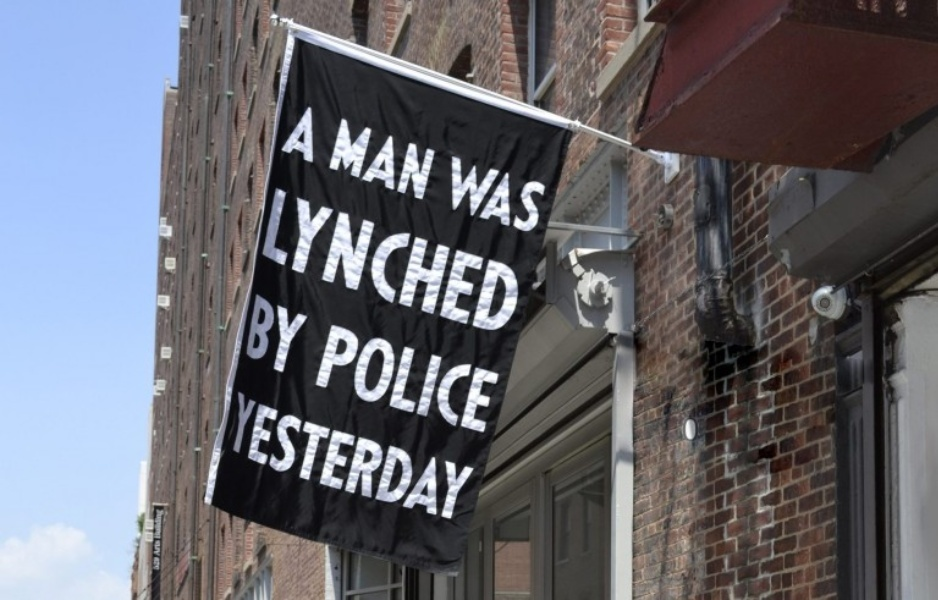text: (289, 187, 304, 340), (305, 187, 320, 340), (321, 187, 336, 340), (337, 187, 352, 340), (353, 187, 368, 340), (369, 187, 384, 340), (385, 187, 400, 340), (401, 187, 416, 340), (417, 187, 432, 340), (433, 187, 448, 340), (449, 187, 464, 340), (465, 187, 480, 340), (481, 187, 496, 340), (497, 187, 512, 340), (513, 187, 528, 340), (274, 187, 288, 340), (241, 389, 256, 527), (257, 389, 272, 527), (273, 389, 288, 527), (289, 389, 304, 527), (305, 389, 320, 527), (321, 389, 336, 527), (337, 389, 352, 527), (353, 389, 368, 527), (369, 389, 384, 527), (385, 389, 400, 527), (401, 389, 416, 527), (417, 389, 432, 527), (433, 389, 448, 527), (449, 389, 464, 527), (465, 389, 480, 527), (337, 323, 352, 438), (353, 323, 368, 438), (369, 323, 384, 438), (385, 323, 400, 438), (401, 323, 416, 438), (417, 323, 432, 438), (433, 323, 448, 438), (449, 323, 464, 438), (465, 323, 480, 438), (481, 323, 496, 438), (353, 114, 368, 205), (369, 114, 384, 205), (385, 114, 400, 205), (401, 114, 416, 205), (417, 114, 432, 205), (449, 152, 464, 240), (465, 152, 480, 240), (481, 152, 496, 240), (497, 152, 512, 240), (513, 152, 528, 240), (529, 152, 544, 240), (257, 293, 272, 379), (273, 293, 288, 379), (289, 293, 304, 379), (338, 114, 352, 205), (305, 99, 320, 168), (545, 152, 553, 240), (330, 323, 336, 438), (295, 99, 304, 168), (497, 323, 502, 438), (236, 389, 240, 527), (152, 508, 160, 572), (321, 99, 328, 168), (433, 114, 438, 205), (305, 293, 310, 379), (253, 293, 256, 379), (481, 389, 482, 527), (161, 508, 163, 572)
